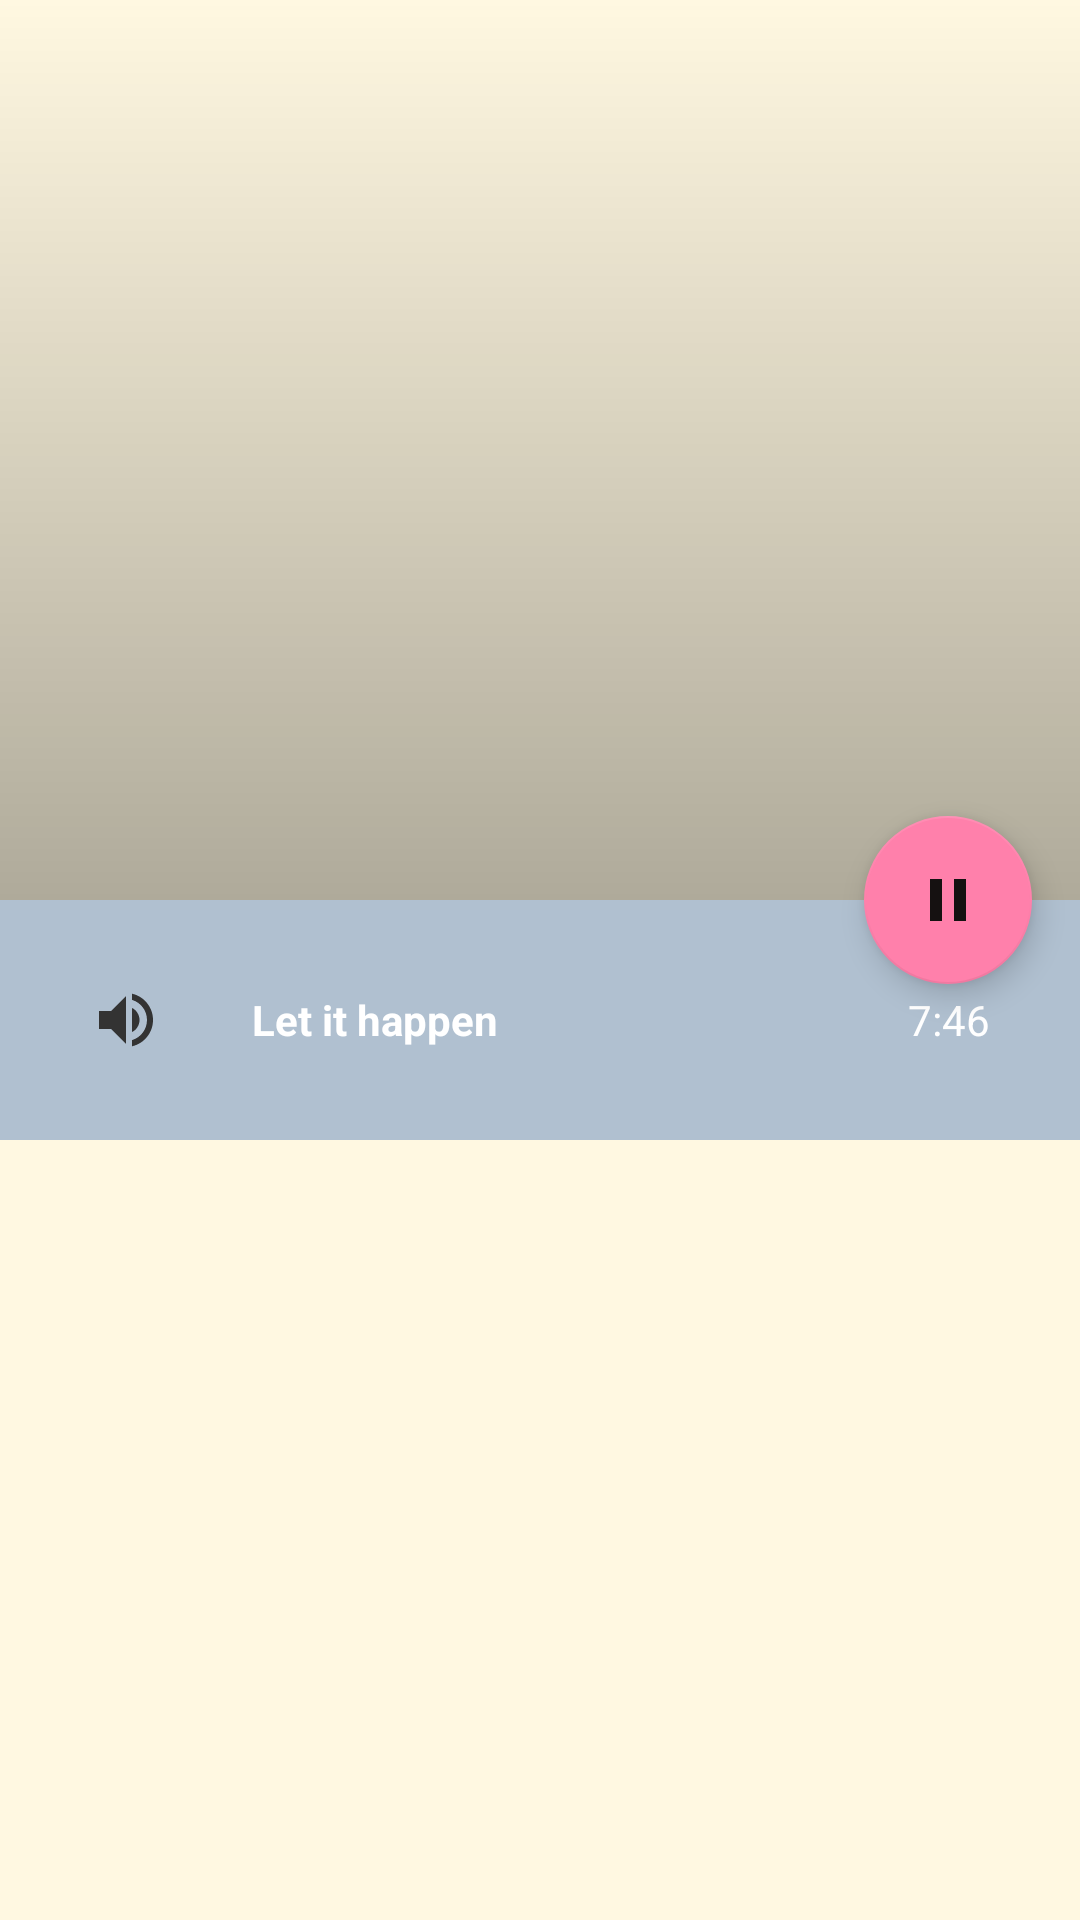

Screen size 1080x1920. Icon name, then its center in pixels as point (x, y):
pause: point (948, 900)
volume up: point (126, 1020)
